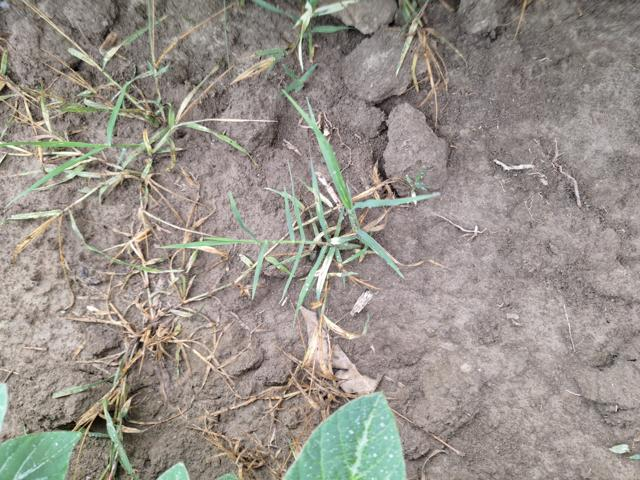bad weed: (0, 0, 237, 456), (217, 85, 430, 309)
